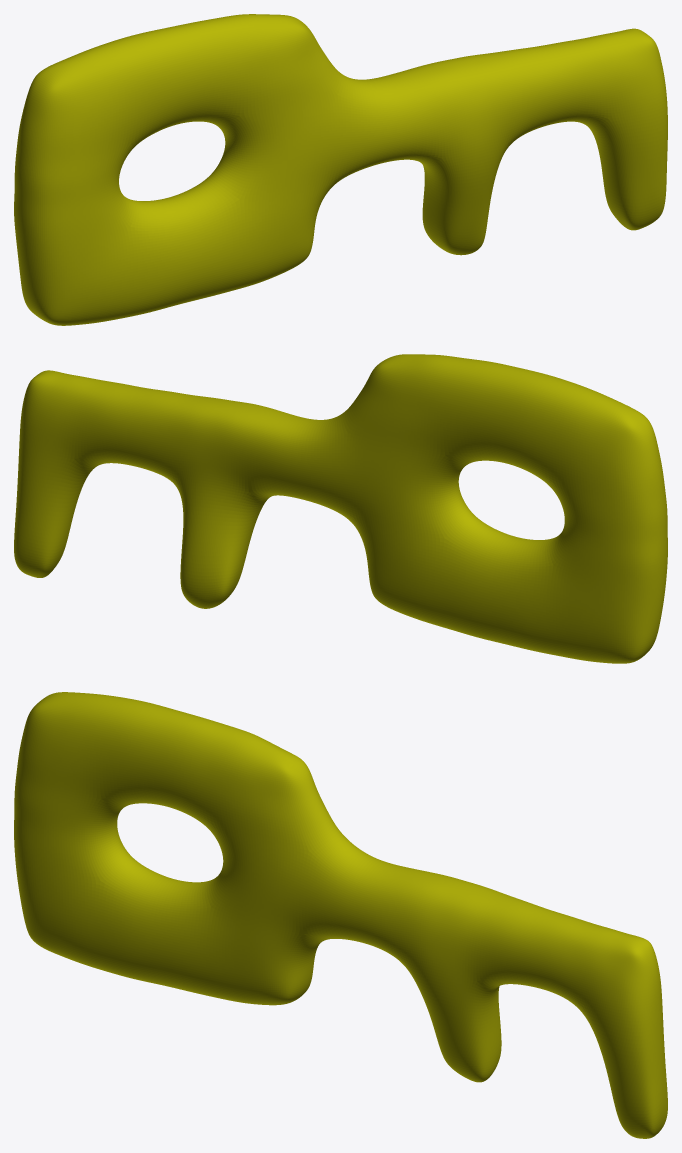
Rendered from Key1.fbx.
3 views of the same model, one above another, from view 1: azimuth 30°, elevation 25°; view 2: azimuth 150°, elevation 25°; view 3: azimuth 330°, elevation 25° (orthographic).
Visible parts, largest first — view 1: Cube; view 2: Cube; view 3: Cube.
Part boxes in pixels (x1,y1,x2,y2): Cube: (14, 14, 667, 325); Cube: (14, 354, 667, 663); Cube: (14, 692, 667, 1138).
Bounding box in the file's own units: 1866 × 881 × 217.
Materials: 1 (1 with a texture image).
